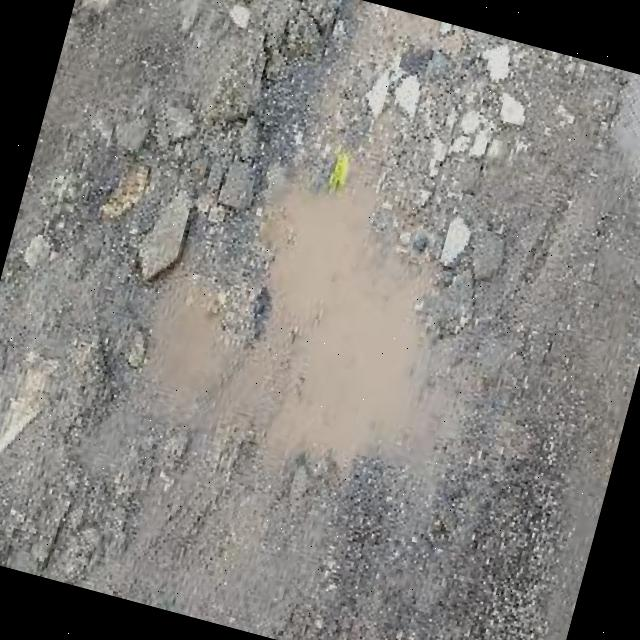waterlogging: (91, 122, 564, 526)
